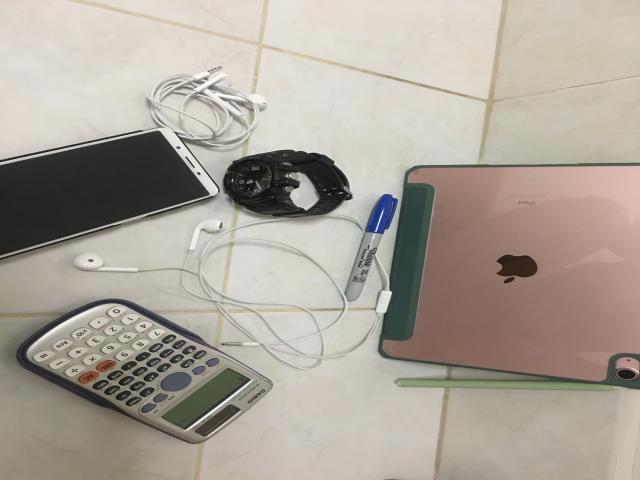Mobile phone: (0, 128, 220, 258)
Pen: (345, 194, 398, 301)
Watch: (223, 150, 352, 218)
wire: (72, 218, 390, 370), (147, 67, 267, 147)
